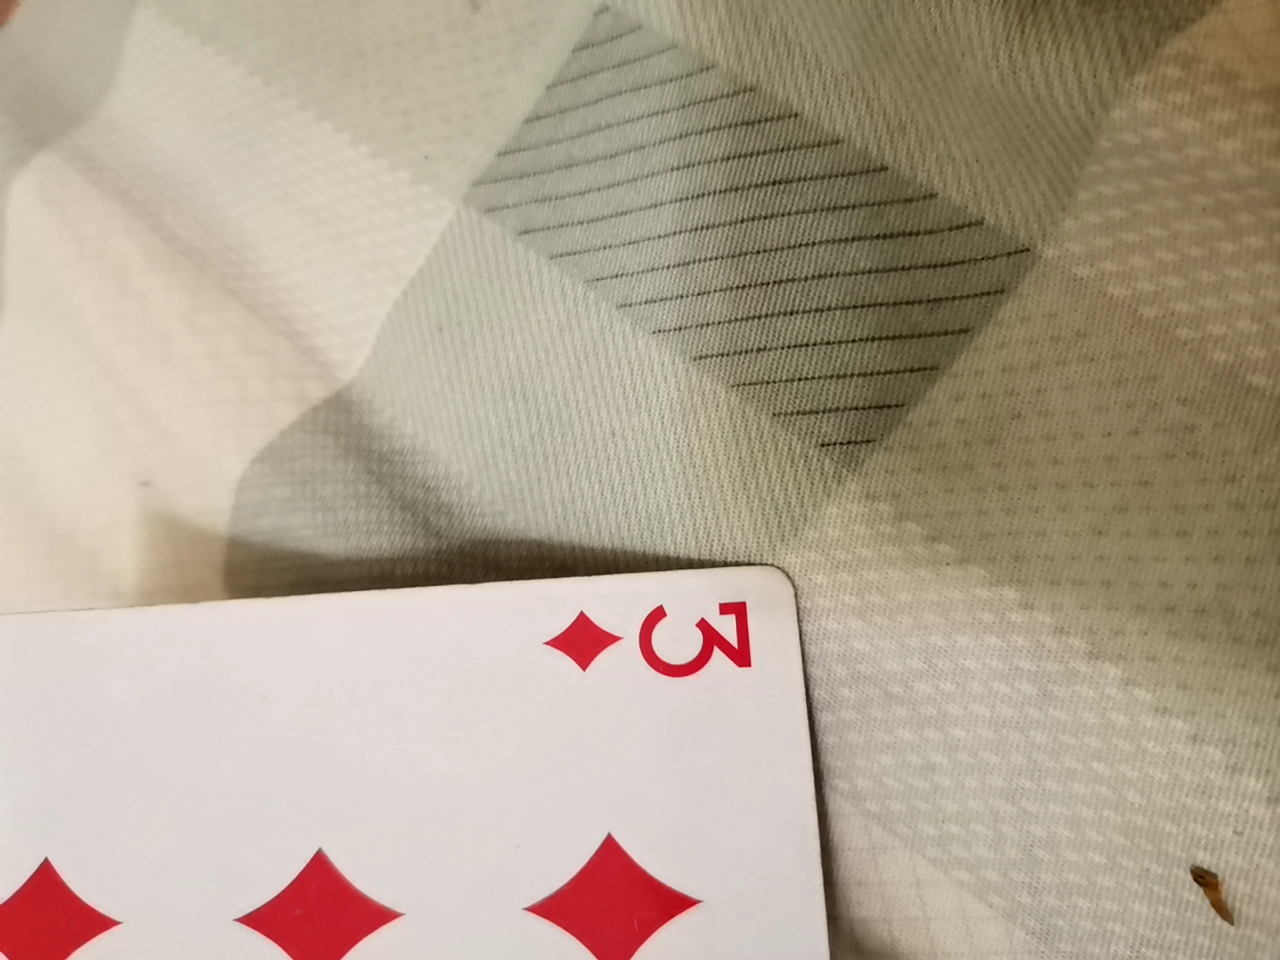fk 3: (0, 561, 865, 946)
